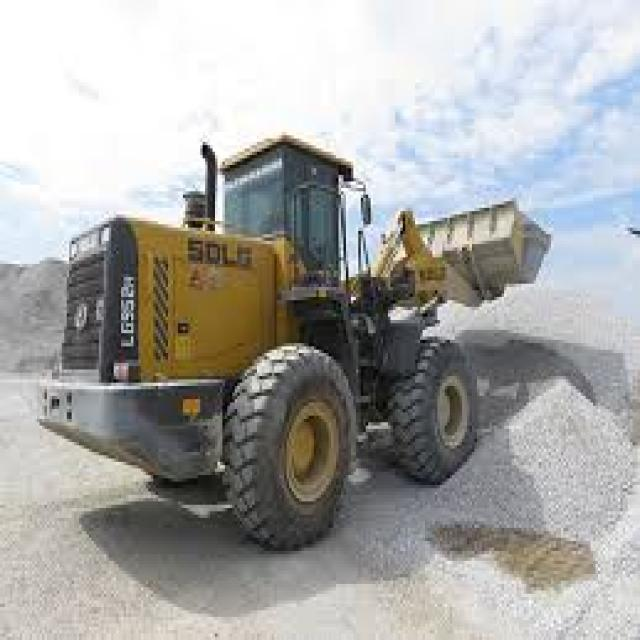buldozerpayloadergrader: (38, 126, 552, 548)
